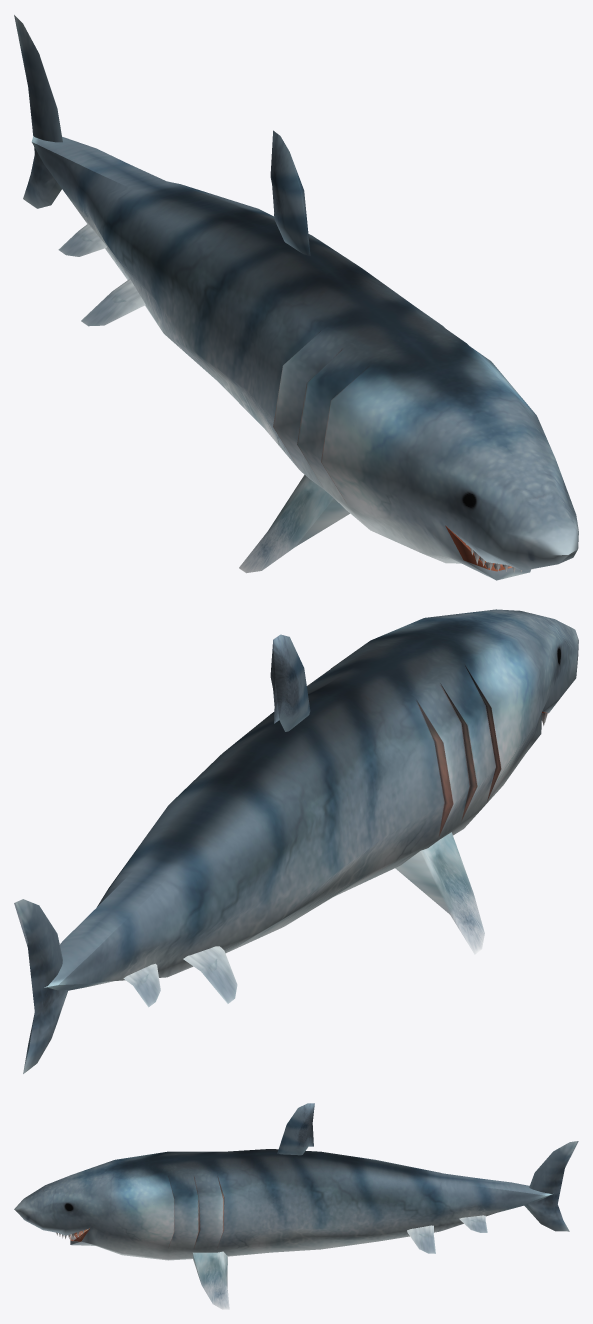
File: tiburon_torpedo.glb
3 views of the same model, one above another, from view 1: azimuth 30°, elevation 25°; view 2: azimuth 150°, elevation 25°; view 3: azimuth 270°, elevation 25° (orthographic). The views are drawn at different scales.
Parts seen in each view (by area): view 1: Object_2; view 2: Object_2; view 3: Object_2.
Part boxes in pixels (<box>): Object_2: <box>14,15,578,580</box>; Object_2: <box>14,609,578,1073</box>; Object_2: <box>14,1103,578,1309</box>.
Size of the model in its own units: 20.84 by 29.33 by 84.79.
Materials: 1 (1 with a texture image).
